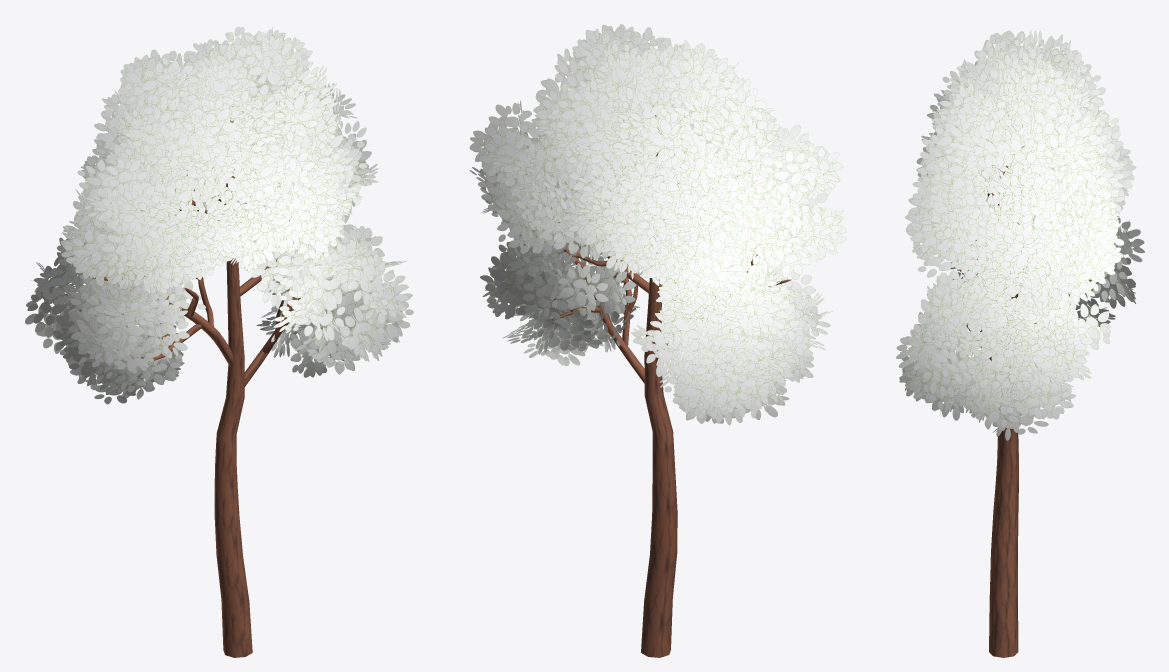
The model's file is tree1.glb.
3 renders of one model, left to right at view 1: azimuth 30°, elevation 25°; view 2: azimuth 150°, elevation 25°; view 3: azimuth 270°, elevation 25°, orthographic. The views are drawn at different scales.
Parts seen in each view (by area): view 1: NormalTree_1, NormalTree_1.001; view 2: NormalTree_1, NormalTree_1.001; view 3: NormalTree_1, NormalTree_1.001.
Part boxes in pixels (x1,y1,x2,y2): NormalTree_1: (25, 27, 413, 657); NormalTree_1.001: (48, 35, 397, 390); NormalTree_1: (469, 24, 846, 657); NormalTree_1.001: (474, 33, 839, 411); NormalTree_1: (896, 30, 1144, 657); NormalTree_1.001: (902, 41, 1132, 431).
Bounding box in the file's own units: 4.05 × 6.87 × 2.74.
Materials: 4 (4 with a texture image).
